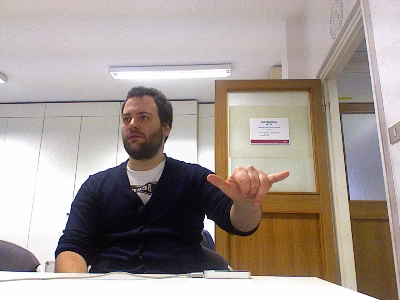六六六: (204, 163, 290, 207)
